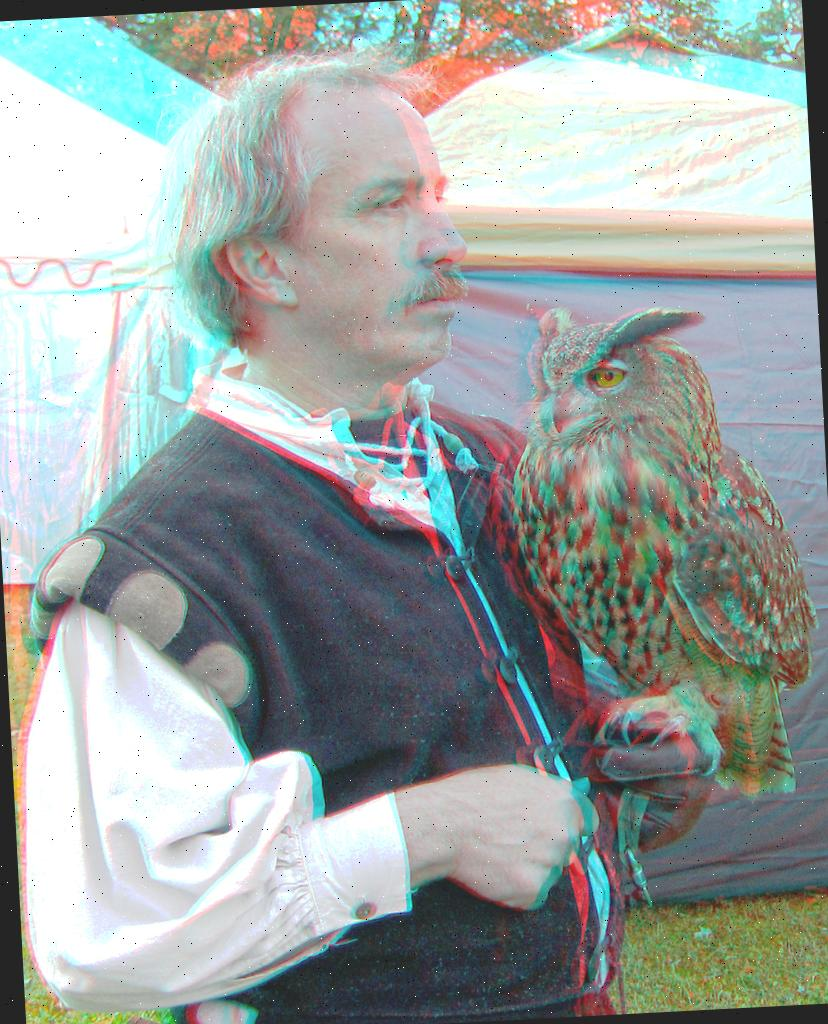Owl: (473, 276, 828, 861)
